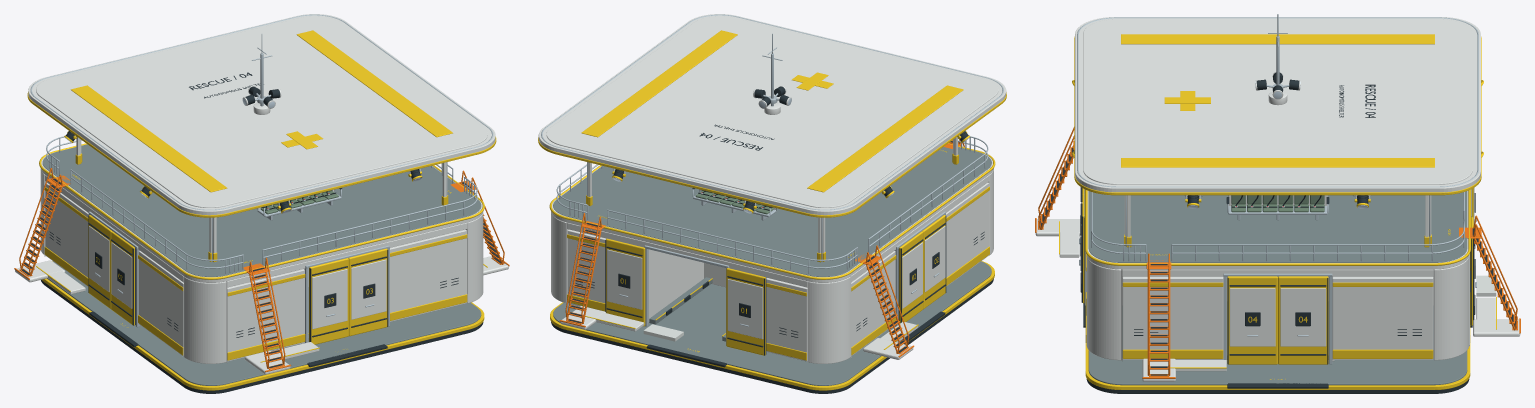
Rendered from RescueBase.fbx.
3 views of the same model, side by side, from view 1: azimuth 30°, elevation 25°; view 2: azimuth 150°, elevation 25°; view 3: azimuth 270°, elevation 25° (orthographic). The views are drawn at different scales.
Visible parts, largest first — view 1: MISSION_BASE_White_canopy_crown_001, MISSION_BASE_Non_slip_upper_deck_surface_001, MISSION_BASE_Boat_bay_floor_001, MISSION_BASE_Full_rounded_square_rain_canopy_001, MISSION_BASE_White_facade_pier_012, MISSION_BASE_White_facade_pier_013, MISSION_BASE_Rounded_white_corner_shell_004, MISSION_BASE_White_facade_pier_010, MISSION_BASE_White_facade_pier_011, MISSION_BASE_Yellow_roof_identification_band_002, MISSION_BASE_Yellow_roof_identification_band_003, MISSION_BASE_Upper_rescue_deck___flat_001 (+22 smaller); view 2: MISSION_BASE_White_canopy_crown_001, MISSION_BASE_Non_slip_upper_deck_surface_001, MISSION_BASE_Boat_bay_floor_001, MISSION_BASE_Full_rounded_square_rain_canopy_001, MISSION_BASE_Rounded_white_corner_shell_005, MISSION_BASE_White_facade_pier_010, MISSION_BASE_White_facade_pier_008, MISSION_BASE_Yellow_roof_identification_band_002, MISSION_BASE_Yellow_roof_identification_band_003, MISSION_BASE_Dock_dividing_wall_009, MISSION_BASE_White_facade_pier_011, MISSION_BASE_Upper_rescue_deck___flat_001 (+25 smaller); view 3: MISSION_BASE_White_canopy_crown_001, MISSION_BASE_Non_slip_upper_deck_surface_001, MISSION_BASE_Boat_bay_floor_001, MISSION_BASE_Full_rounded_square_rain_canopy_001, MISSION_BASE_White_facade_pier_014, MISSION_BASE_White_facade_pier_015, MISSION_BASE_Yellow_roof_identification_band_002, MISSION_BASE_Rounded_white_corner_shell_006, MISSION_BASE_Rounded_white_corner_shell_007, MISSION_BASE_Yellow_roof_identification_band_003, MISSION_SIM_DOOR_VIS_White_door_inset_014, MISSION_SIM_DOOR_VIS_White_door_inset_015 (+23 smaller).
Part boxes in pixels (<box>): MISSION_BASE_White_canopy_crown_001: <box>36,16,487,207</box>; MISSION_BASE_Non_slip_upper_deck_surface_001: <box>42,144,481,276</box>; MISSION_BASE_Boat_bay_floor_001: <box>47,261,481,385</box>; MISSION_BASE_Full_rounded_square_rain_canopy_001: <box>28,14,495,215</box>; MISSION_BASE_White_facade_pier_012: <box>390,229,466,321</box>; MISSION_BASE_White_facade_pier_013: <box>227,269,304,361</box>; MISSION_BASE_Rounded_white_corner_shell_004: <box>184,276,227,363</box>; MISSION_BASE_White_facade_pier_010: <box>138,251,183,356</box>; MISSION_BASE_White_facade_pier_011: <box>45,183,88,286</box>; MISSION_BASE_Yellow_roof_identification_band_002: <box>71,85,227,192</box>; MISSION_BASE_Yellow_roof_identification_band_003: <box>296,30,452,137</box>; MISSION_BASE_Upper_rescue_deck___flat_001: <box>40,152,483,282</box>; MISSION_BASE_White_canopy_crown_001: <box>546,16,998,207</box>; MISSION_BASE_Non_slip_upper_deck_surface_001: <box>553,147,991,276</box>; MISSION_BASE_Boat_bay_floor_001: <box>553,261,991,385</box>; MISSION_BASE_Full_rounded_square_rain_canopy_001: <box>538,14,1006,215</box>; MISSION_BASE_Rounded_white_corner_shell_005: <box>807,276,851,363</box>; MISSION_BASE_White_facade_pier_010: <box>946,182,989,286</box>; MISSION_BASE_White_facade_pier_008: <box>766,277,807,361</box>; MISSION_BASE_Yellow_roof_identification_band_002: <box>807,85,963,192</box>; MISSION_BASE_Yellow_roof_identification_band_003: <box>581,30,737,137</box>; MISSION_BASE_Dock_dividing_wall_009: <box>648,249,703,322</box>; MISSION_BASE_White_facade_pier_011: <box>851,251,895,355</box>; MISSION_BASE_Upper_rescue_deck___flat_001: <box>551,153,993,282</box>; MISSION_BASE_White_canopy_crown_001: <box>1083,19,1472,184</box>; MISSION_BASE_Non_slip_upper_deck_surface_001: <box>1088,191,1467,262</box>; MISSION_BASE_Boat_bay_floor_001: <box>1088,306,1467,385</box>; MISSION_BASE_Full_rounded_square_rain_canopy_001: <box>1075,17,1480,192</box>; MISSION_BASE_White_facade_pier_014: <box>1332,276,1433,359</box>; MISSION_BASE_White_facade_pier_015: <box>1122,276,1223,359</box>; MISSION_BASE_Yellow_roof_identification_band_002: <box>1121,34,1434,44</box>; MISSION_BASE_Rounded_white_corner_shell_006: <box>1086,256,1122,361</box>; MISSION_BASE_Rounded_white_corner_shell_007: <box>1433,254,1469,360</box>; MISSION_BASE_Yellow_roof_identification_band_003: <box>1121,158,1434,167</box>; MISSION_SIM_DOOR_VIS_White_door_inset_014: <box>1280,288,1326,346</box>; MISSION_SIM_DOOR_VIS_White_door_inset_015: <box>1229,288,1275,346</box>.
Bounding box in the file's own units: 0.3554 × 0.2415 × 0.3554.
